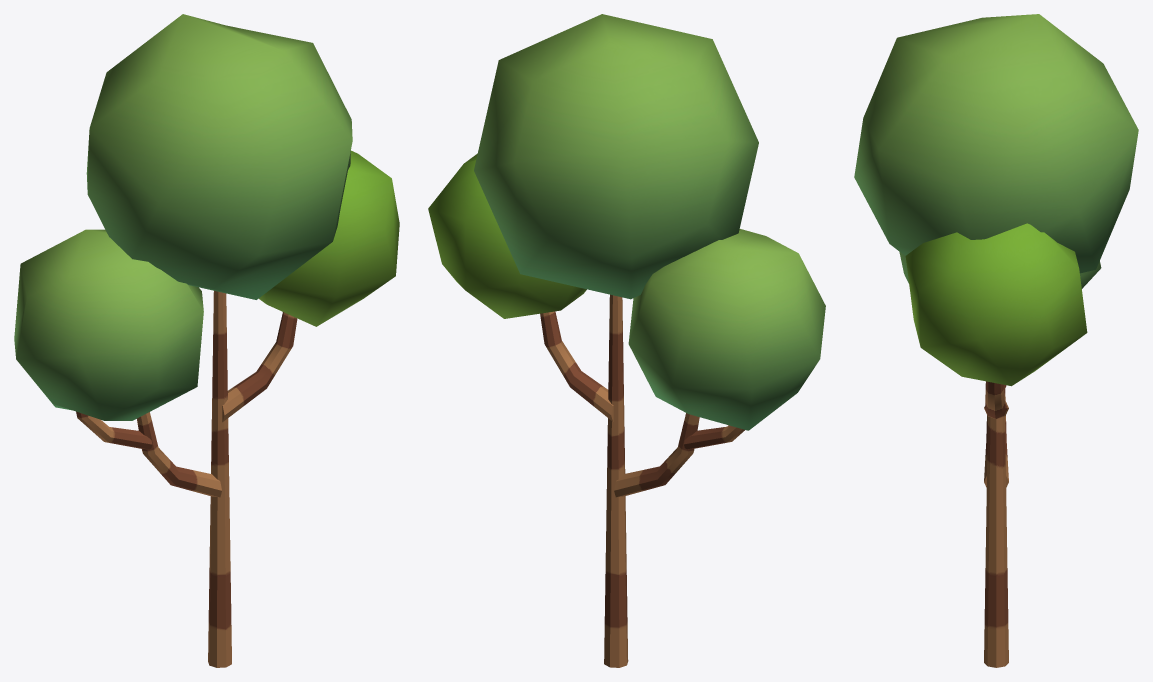
The model's file is Trees_RoundTree1.fbx.
3 views of the same model, side by side, from view 1: azimuth 30°, elevation 25°; view 2: azimuth 150°, elevation 25°; view 3: azimuth 270°, elevation 25° (orthographic).
Parts seen in each view (by area): view 1: RoundTree1; view 2: RoundTree1; view 3: RoundTree1.
Part boxes in pixels (x1=…): RoundTree1: x1=14, y1=14, x2=399, y2=667; RoundTree1: x1=428, y1=14, x2=825, y2=667; RoundTree1: x1=854, y1=14, x2=1138, y2=667.
Size of the model in its own units: 308 by 501 by 202.
Materials: 1 (1 with a texture image).
